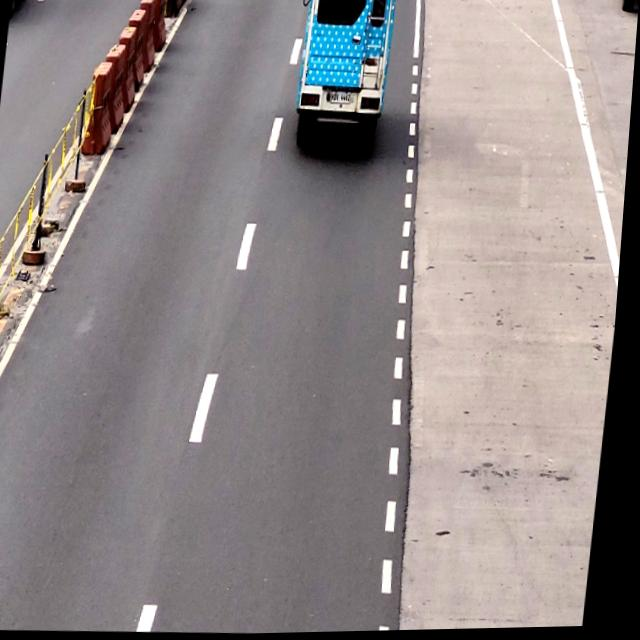Car: (294, 0, 394, 153)
License-Plate: (329, 88, 355, 106)
